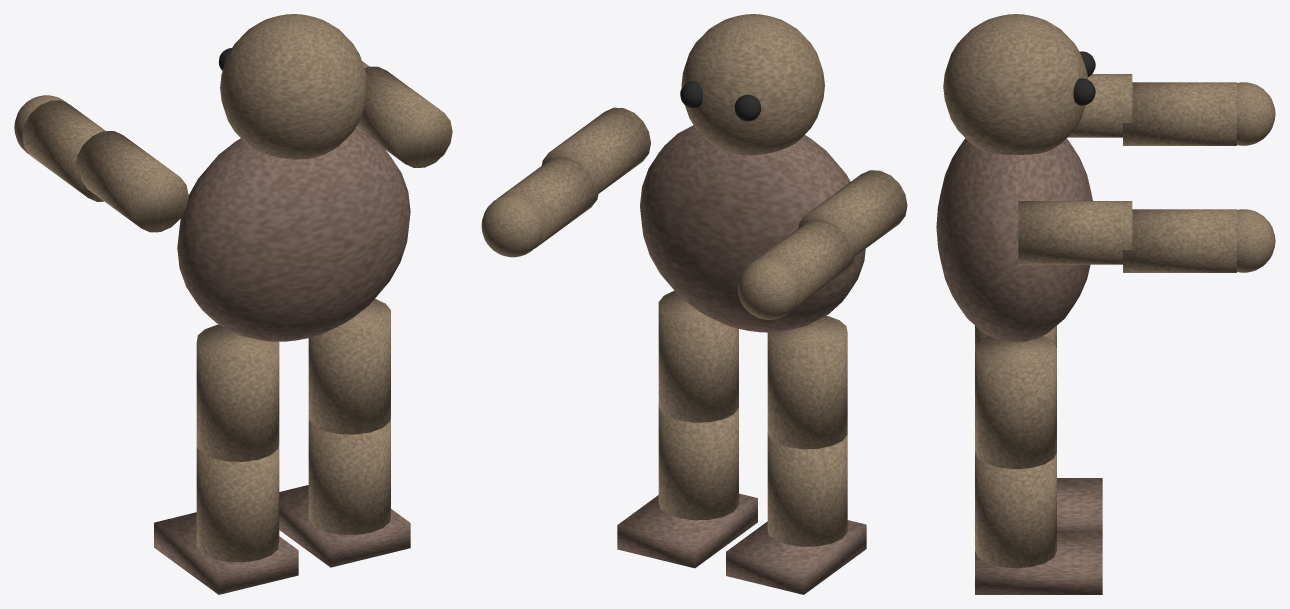
Rendered from draugr.glb.
The picture shows the model from 3 angles, left to right: view 1: azimuth 30°, elevation 25°; view 2: azimuth 150°, elevation 25°; view 3: azimuth 270°, elevation 25°; orthographic projection. The views are drawn at different scales.
Visible parts, largest first — view 1: Torso, Head, ThighL, ThighR, ShinL, ShinR, UpperArmL, UpperArmR, FootL, FootR, ForearmL, HandL; view 2: Torso, Head, ThighL, ThighR, ShinR, ShinL, FootL, FootR, UpperArmL, UpperArmR, ForearmL, ForearmR (+3 smaller); view 3: Torso, Head, ThighR, ShinR, UpperArmR, ForearmR, ForearmL, FootR, UpperArmL, FootL, HandR, HandL (+1 smaller).
Part boxes in pixels (x1=…): Torso: x1=177, y1=128, x2=410, y2=341; Head: x1=220, y1=14, x2=367, y2=159; ThighL: x1=196, y1=324, x2=279, y2=461; ThighR: x1=308, y1=298, x2=390, y2=434; ShinL: x1=196, y1=442, x2=279, y2=562; ShinR: x1=308, y1=417, x2=390, y2=534; UpperArmL: x1=75, y1=131, x2=188, y2=232; UpperArmR: x1=355, y1=66, x2=452, y2=167; FootL: x1=154, y1=512, x2=298, y2=594; FootR: x1=279, y1=485, x2=410, y2=567; ForearmL: x1=22, y1=100, x2=105, y2=201; HandL: x1=14, y1=95, x2=67, y2=154; Torso: x1=640, y1=125, x2=865, y2=332; Head: x1=681, y1=14, x2=824, y2=155; ThighL: x1=767, y1=315, x2=847, y2=449; ThighR: x1=658, y1=290, x2=738, y2=422; ShinR: x1=658, y1=404, x2=738, y2=520; ShinL: x1=767, y1=432, x2=847, y2=546; FootL: x1=726, y1=520, x2=866, y2=594; FootR: x1=617, y1=493, x2=757, y2=568; UpperArmL: x1=798, y1=170, x2=907, y2=256; UpperArmR: x1=541, y1=107, x2=650, y2=193; ForearmL: x1=753, y1=219, x2=855, y2=311; ForearmR: x1=497, y1=157, x2=599, y2=248; Torso: x1=936, y1=138, x2=1092, y2=342; Head: x1=943, y1=14, x2=1087, y2=154; ThighR: x1=975, y1=336, x2=1056, y2=469; ShinR: x1=975, y1=452, x2=1056, y2=568; UpperArmR: x1=1018, y1=201, x2=1132, y2=264; ForearmR: x1=1123, y1=209, x2=1236, y2=272; ForearmL: x1=1123, y1=82, x2=1236, y2=145; FootR: x1=975, y1=531, x2=1102, y2=594; UpperArmL: x1=1067, y1=74, x2=1132, y2=137; FootL: x1=1057, y1=478, x2=1102, y2=531; HandR: x1=1237, y1=209, x2=1275, y2=272; HandL: x1=1237, y1=82, x2=1275, y2=145.
Bounding box in the file's own units: 0.625 × 1 × 0.582.
Materials: 3 (2 with a texture image).
